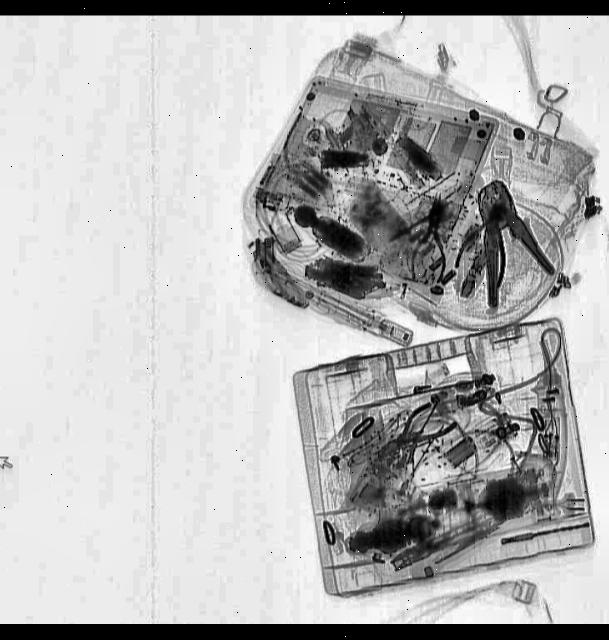Pliers: (447, 170, 558, 310), (361, 393, 456, 478), (448, 193, 519, 290), (404, 188, 456, 285)
